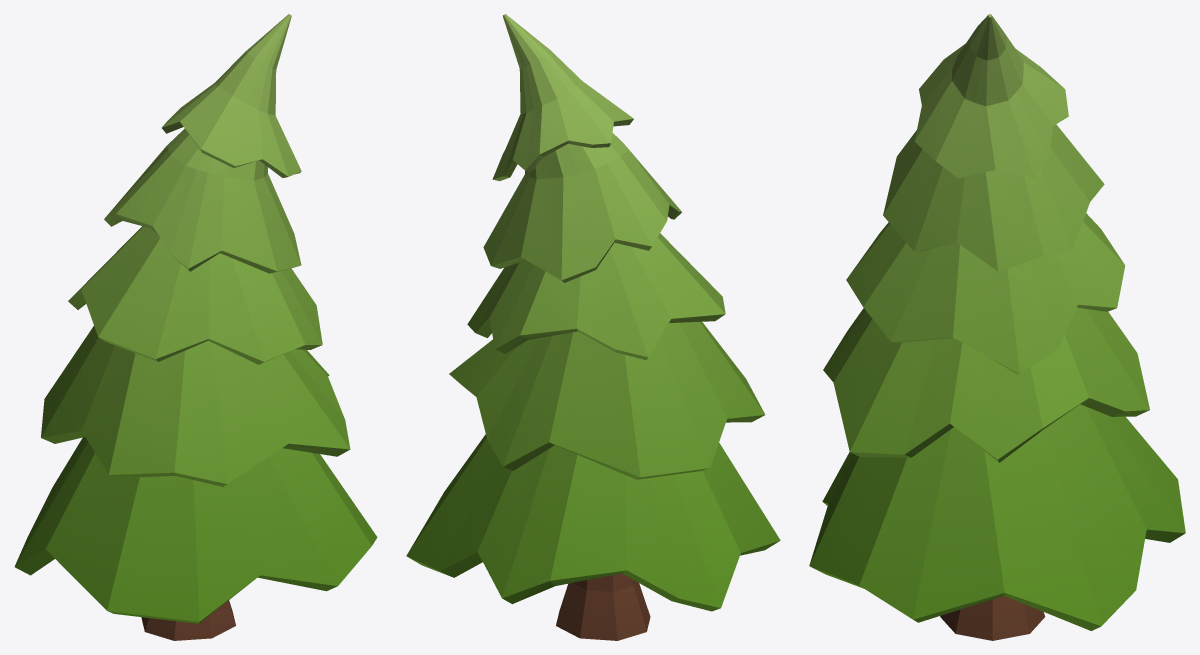
File: fir tree tilted.fbx
3 renders of one model, left to right at view 1: azimuth 30°, elevation 25°; view 2: azimuth 150°, elevation 25°; view 3: azimuth 270°, elevation 25°, orthographic. The views are drawn at different scales.
Parts seen in each view (by area): view 1: fir tree tilted; view 2: fir tree tilted; view 3: fir tree tilted.
Boxes of the visible parts, box(x1,y1,x2,y2) form: fir tree tilted: box(14, 14, 377, 640); fir tree tilted: box(406, 14, 780, 640); fir tree tilted: box(809, 14, 1185, 640).
Bounding box in the file's own units: 447 × 830 × 431.
